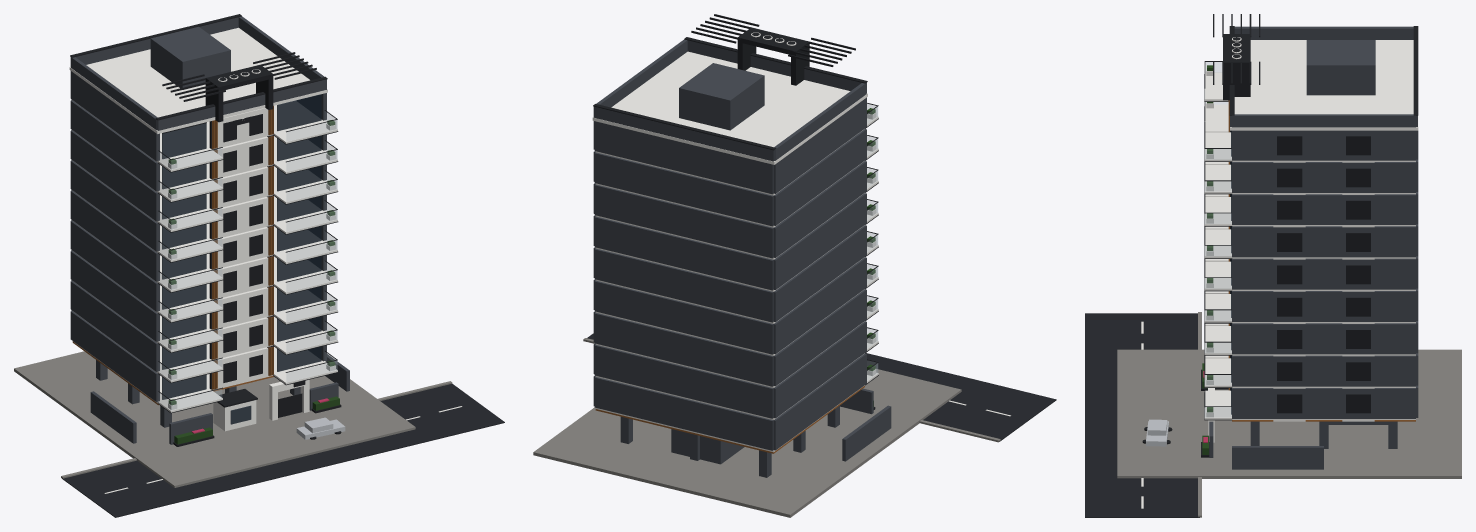
The model's file is Heaven_Tower.glb.
3 views of the same model, side by side, from view 1: azimuth 30°, elevation 25°; view 2: azimuth 150°, elevation 25°; view 3: azimuth 270°, elevation 25° (orthographic). The views are drawn at different scales.
Visible parts, largest first — view 1: Ground_Base_Slab, Street_Roadway, Roof_Slab, LMR_Structure, L07_West_Wall, L01_West_Wall, L04_West_Wall, L05_West_Wall, L03_West_Wall, L06_West_Wall, L08_West_Wall, L02_West_Wall (+66 smaller); view 2: Ground_Base_Slab, Roof_Slab, Street_Roadway, L08_Rear_Wall, L01_Rear_Wall, L07_Rear_Wall, L04_Rear_Wall, L06_Rear_Wall, L05_Rear_Wall, L02_Rear_Wall, L03_Rear_Wall, L09_Rear_Wall (+20 smaller); view 3: Ground_Base_Slab, Street_Roadway, Roof_Slab, L02_East_Wall, L05_East_Wall, L03_East_Wall, L06_East_Wall, L01_East_Wall, L04_East_Wall, L08_East_Wall, L09_East_Wall, L07_East_Wall (+36 smaller).
Boxes of the visible parts, bbox=[...] form: Ground_Base_Slab: bbox=[14, 351, 415, 487]; Street_Roadway: bbox=[62, 383, 504, 517]; Roof_Slab: bbox=[69, 27, 327, 133]; LMR_Structure: bbox=[150, 26, 230, 89]; L07_West_Wall: bbox=[70, 130, 159, 221]; L01_West_Wall: bbox=[70, 311, 159, 401]; L04_West_Wall: bbox=[70, 220, 159, 311]; L05_West_Wall: bbox=[70, 190, 159, 281]; L03_West_Wall: bbox=[70, 251, 159, 341]; L06_West_Wall: bbox=[70, 160, 159, 251]; L08_West_Wall: bbox=[70, 100, 159, 191]; L02_West_Wall: bbox=[70, 281, 159, 371]; Ground_Base_Slab: bbox=[533, 369, 961, 517]; Roof_Slab: bbox=[592, 51, 867, 164]; Street_Roadway: bbox=[587, 333, 1056, 441]; L08_Rear_Wall: bbox=[594, 152, 773, 226]; L01_Rear_Wall: bbox=[594, 377, 773, 450]; L07_Rear_Wall: bbox=[594, 184, 773, 258]; L04_Rear_Wall: bbox=[594, 280, 773, 354]; L06_Rear_Wall: bbox=[594, 216, 773, 290]; L05_Rear_Wall: bbox=[594, 248, 773, 322]; L02_Rear_Wall: bbox=[594, 345, 773, 418]; L03_Rear_Wall: bbox=[594, 313, 773, 386]; L09_Rear_Wall: bbox=[594, 121, 773, 194]; Ground_Base_Slab: bbox=[1117, 349, 1461, 478]; Street_Roadway: bbox=[1085, 313, 1199, 517]; Roof_Slab: bbox=[1230, 40, 1418, 130]; L02_East_Wall: bbox=[1232, 355, 1415, 386]; L05_East_Wall: bbox=[1232, 258, 1415, 289]; L03_East_Wall: bbox=[1232, 323, 1415, 354]; L06_East_Wall: bbox=[1232, 226, 1415, 257]; L01_East_Wall: bbox=[1232, 388, 1415, 418]; L04_East_Wall: bbox=[1232, 291, 1415, 321]; L08_East_Wall: bbox=[1232, 162, 1415, 192]; L09_East_Wall: bbox=[1232, 130, 1415, 160]; L07_East_Wall: bbox=[1232, 194, 1415, 224].
Bounding box in the file's own units: 42 × 35.39 × 32.8.
